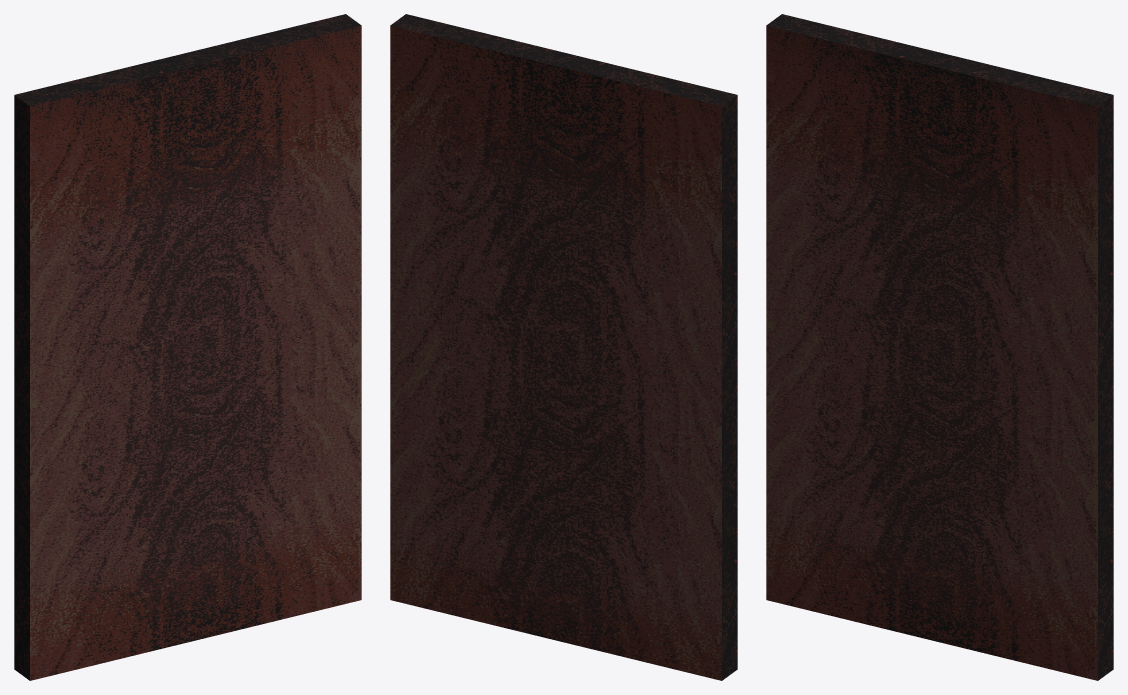
File: door.obj
3 renders of one model, left to right at view 1: azimuth 30°, elevation 25°; view 2: azimuth 150°, elevation 25°; view 3: azimuth 330°, elevation 25°, orthographic.
Visible parts, largest first — view 1: Door; view 2: Door; view 3: Door.
Boxes of the visible parts, x1=… form: Door: x1=14, y1=14, x2=361, y2=680; Door: x1=390, y1=14, x2=737, y2=680; Door: x1=766, y1=14, x2=1113, y2=680.
Bounding box in the file's own units: 1.21 × 2 × 0.1.
Materials: 1 (1 with a texture image).
